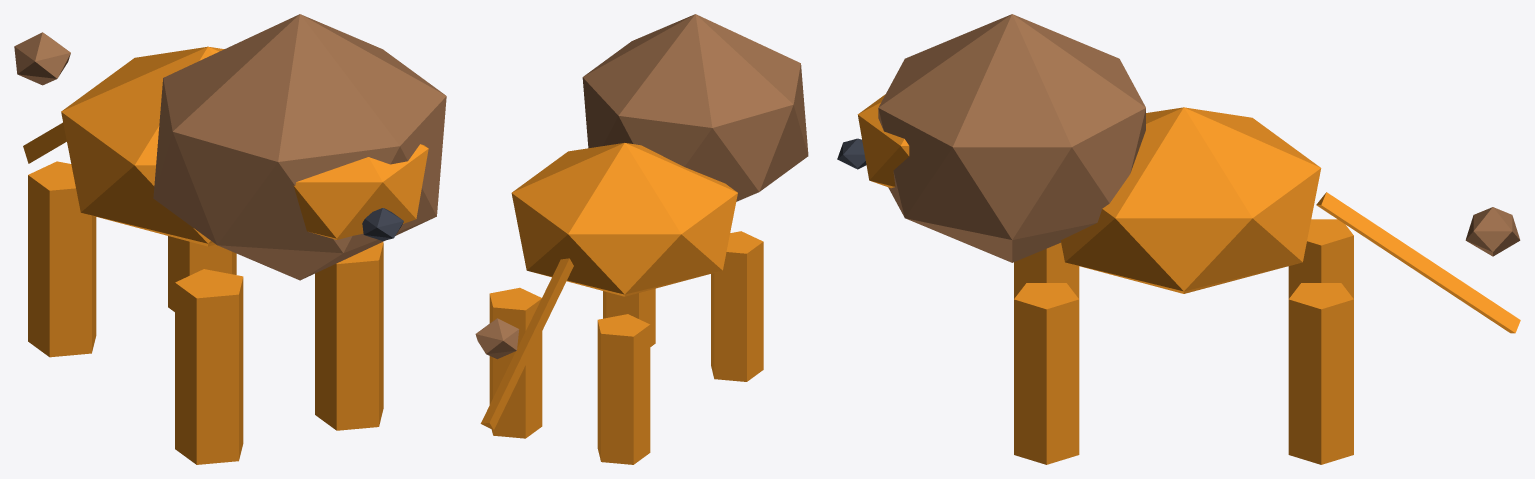
The model's file is animal_lion.glb.
3 views of the same model, side by side, from view 1: azimuth 30°, elevation 25°; view 2: azimuth 150°, elevation 25°; view 3: azimuth 270°, elevation 25° (orthographic). The views are drawn at different scales.
Parts seen in each view (by area): view 1: animal_lion; view 2: animal_lion; view 3: animal_lion.
Part boxes in pixels (<box>): animal_lion: <box>14,14,446,464</box>; animal_lion: <box>475,14,808,464</box>; animal_lion: <box>837,14,1520,464</box>.
Bounding box in the file's own units: 0.08 × 0.13 × 0.1991.
